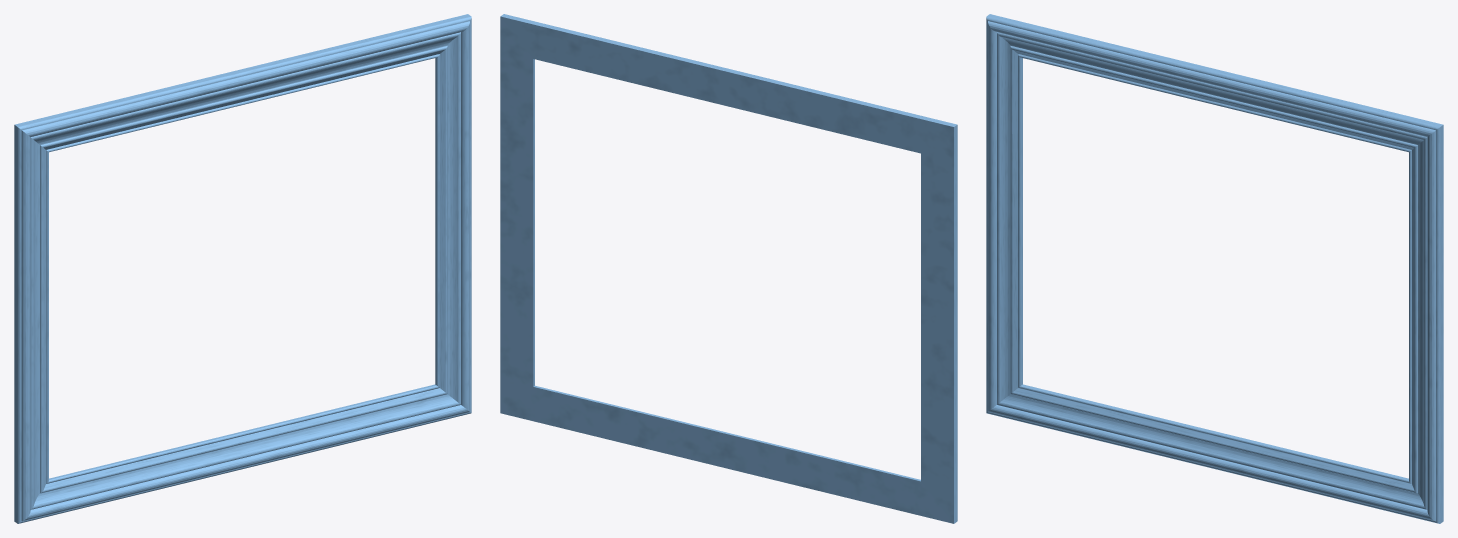
Rendered from Frame.fbx.
3 views of the same model, side by side, from view 1: azimuth 30°, elevation 25°; view 2: azimuth 150°, elevation 25°; view 3: azimuth 330°, elevation 25° (orthographic).
Parts seen in each view (by area): view 1: Plane.001; view 2: Plane.001; view 3: Plane.001.
Boxes of the visible parts, x1,y1,x2,y2 form: Plane.001: (14, 14, 471, 523); Plane.001: (500, 14, 957, 523); Plane.001: (986, 14, 1443, 523).
Size of the model in its own units: 297 by 248 by 7.3.
